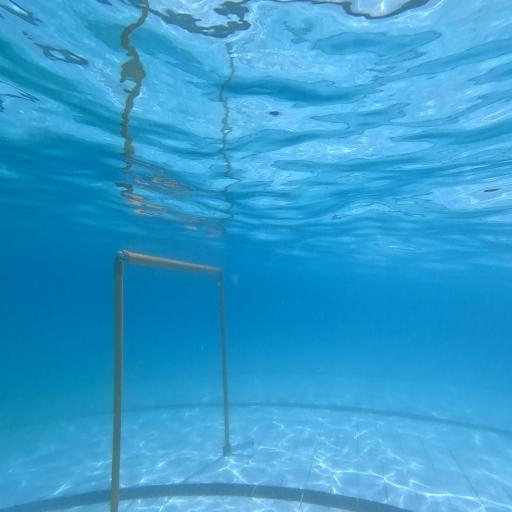gate: (113, 247, 254, 512)
